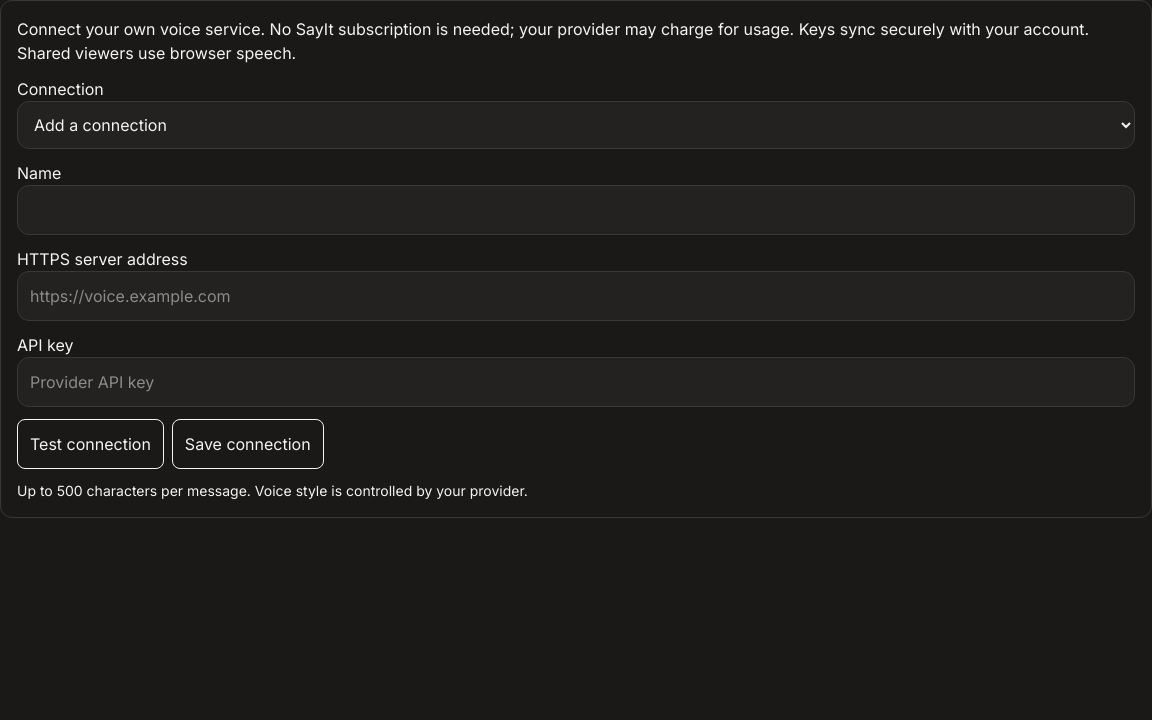
Scenario: loads account metadata, keeps key masked, and loads selectable voices
This screenshot has width=1152, height=720.
Select "Personal" in the dropdown labelled "Connection". click: (576, 125)
box: 17,101 -> 1135,149
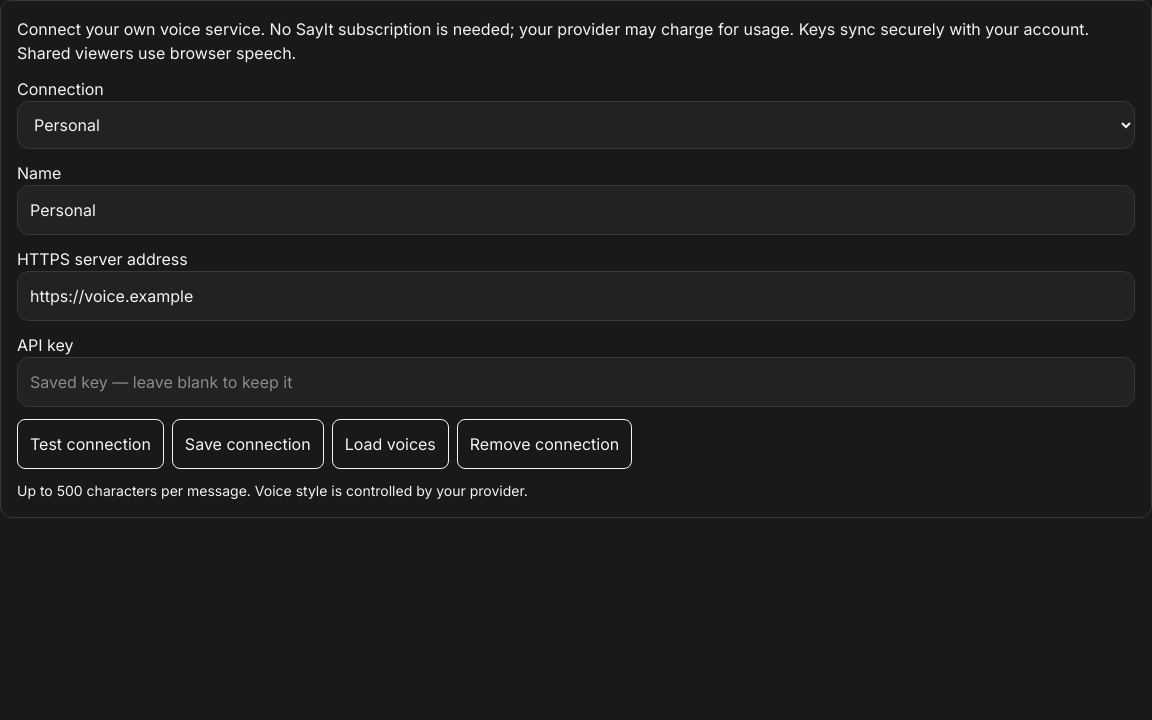
Expected: the password field labelled "API key" is empty, 17,357 -> 1135,407
Click the button "Load voices". click: (390, 444)
box: 332,419 -> 449,469
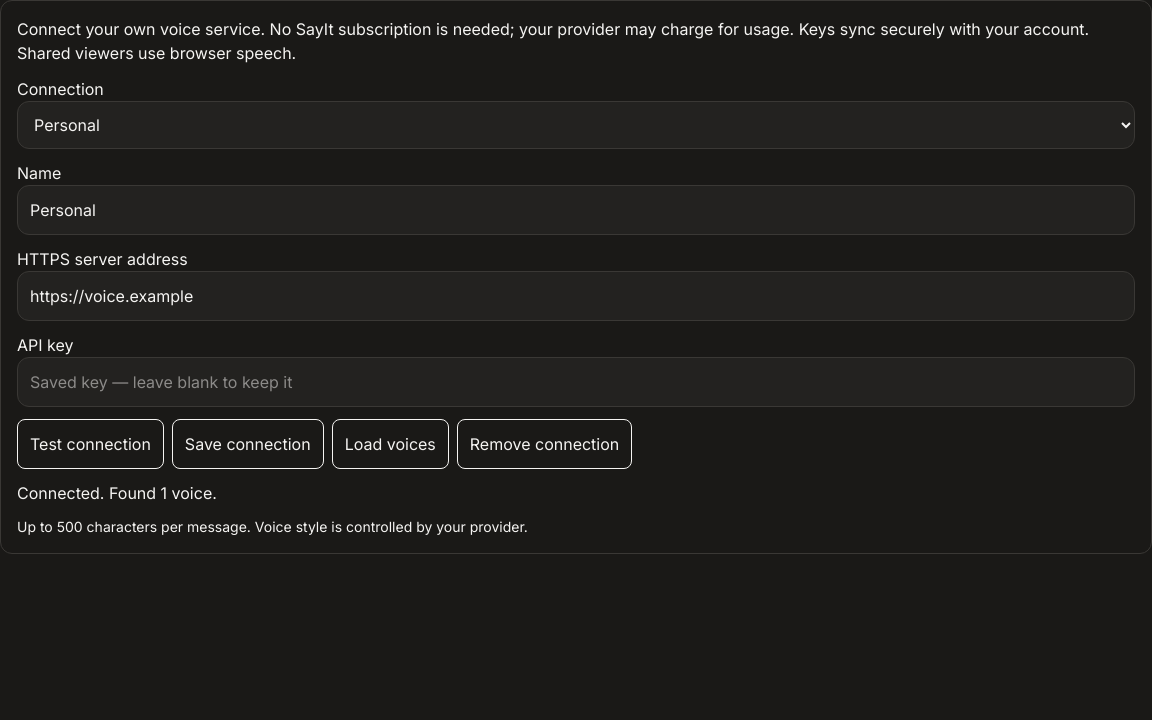
Now the text "Connected. Found 1 voice." is shown, box 17,483 -> 217,503
